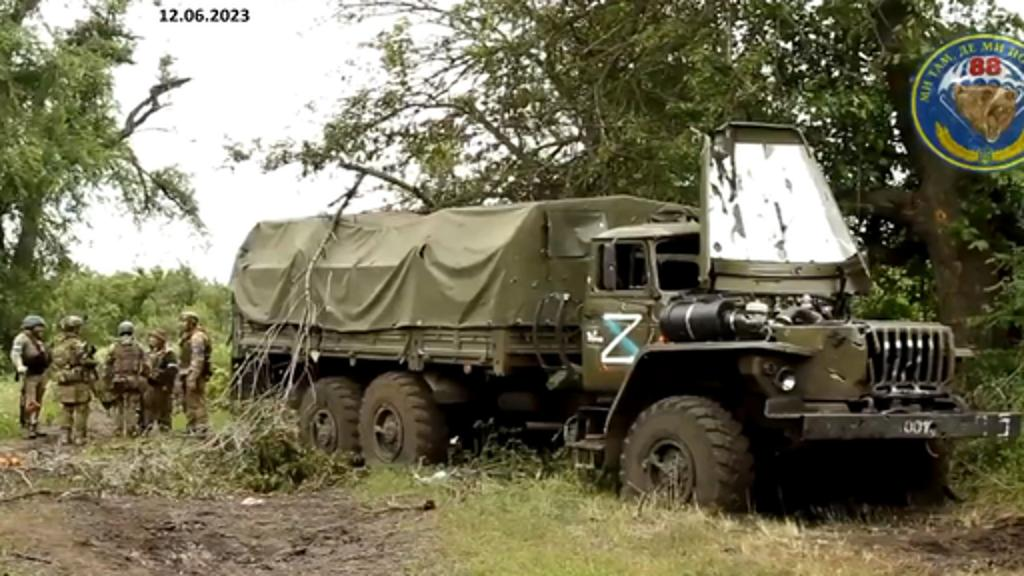TRUCK: (222, 180, 1016, 526)
